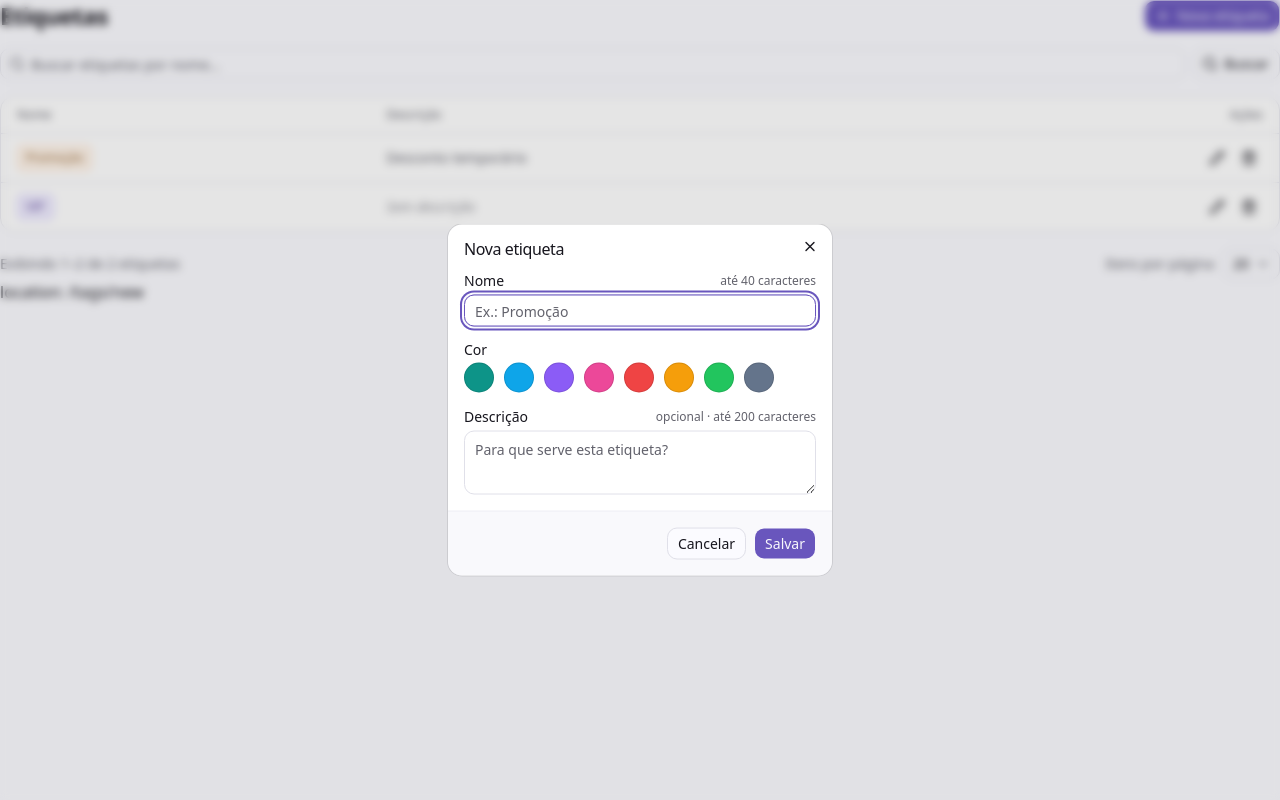
Test case: TagFormPage › create mode (/tags/new) › hands the way out back once a save fails, so the person is never stuck
Expected: the heading "Nova etiqueta" is shown, [464,238,564,260]
Type "Sazonal" into the field labelled "Nome" at (640, 310), box [464,294,816,326]
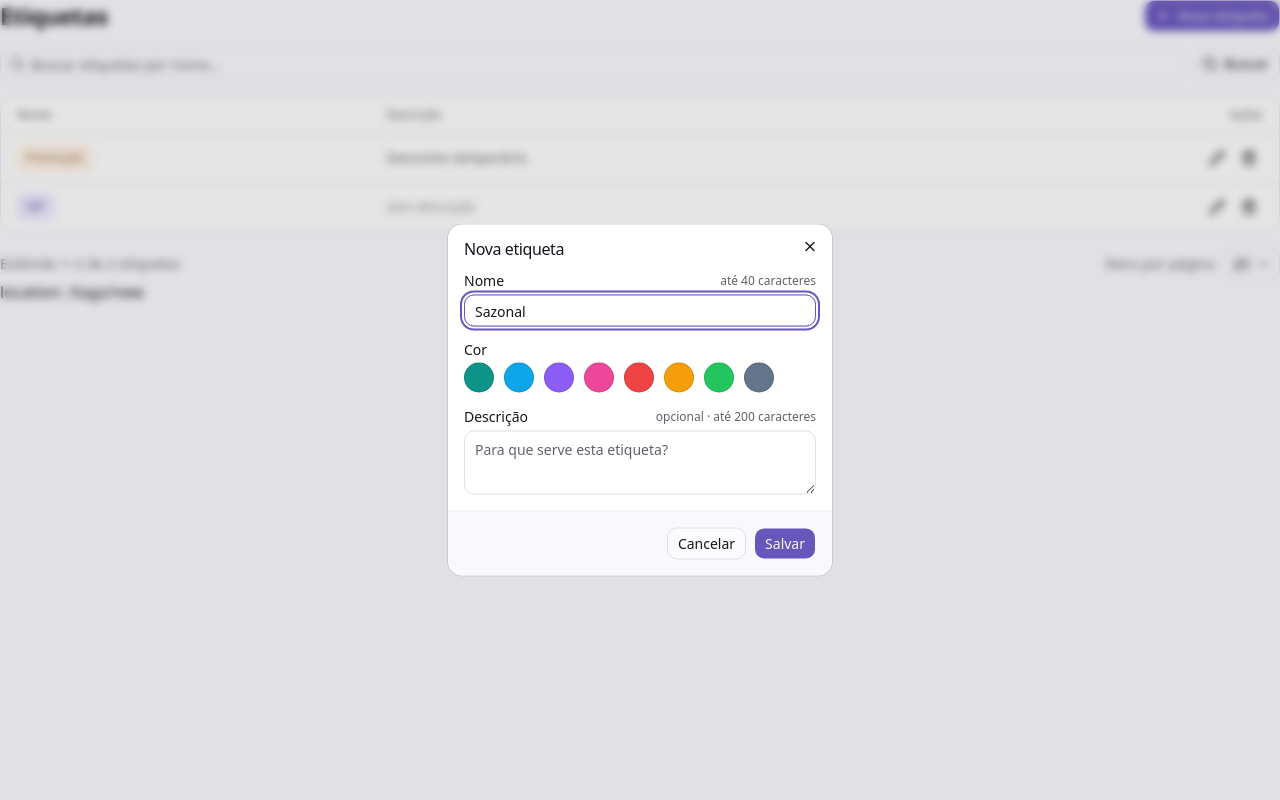
Click the radio button named "Azul" at (519, 378), box [504,362,534,392]
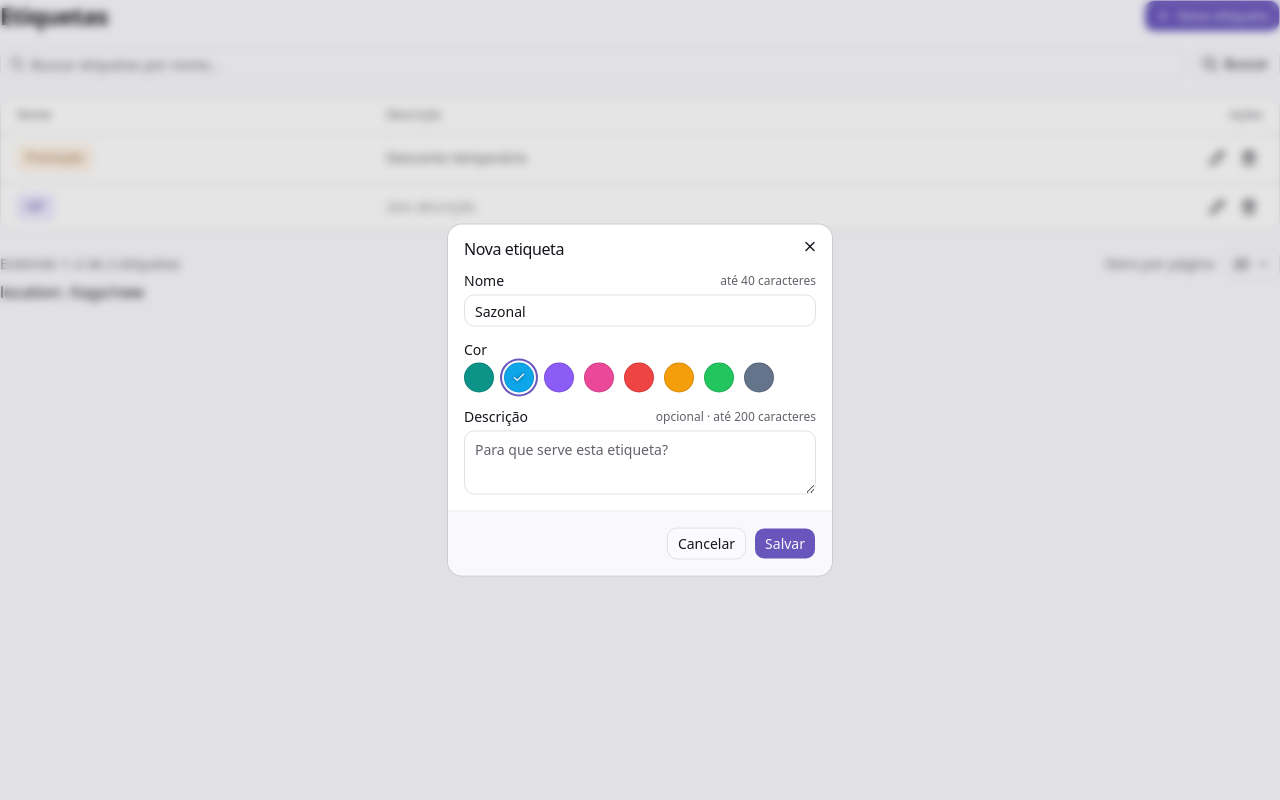
Click the button "Salvar" at (785, 544), box [754,528,816,560]
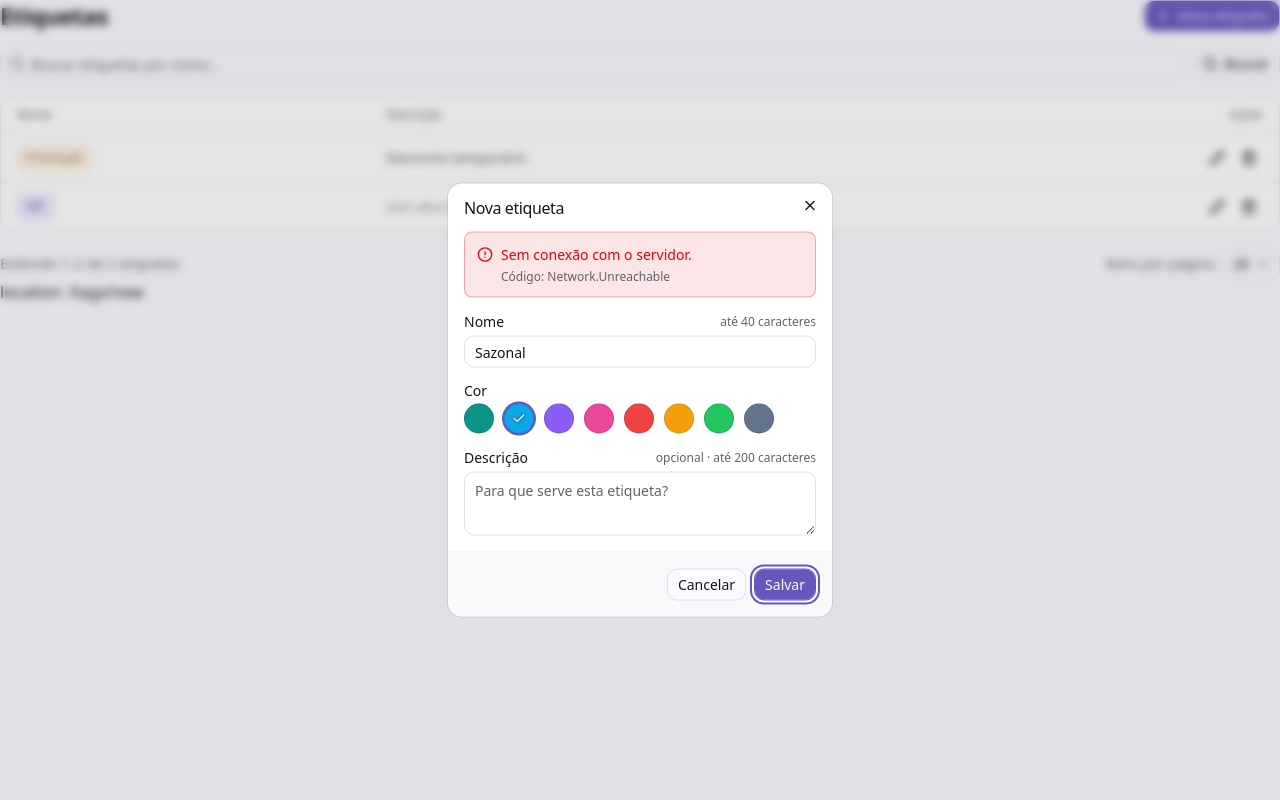
Expected: the message "Sem conexão com o servidor. Código: Network.Unreachable" is shown, [464,232,816,298]
Click the button "Cancelar" at (706, 584), box [667,568,746,600]
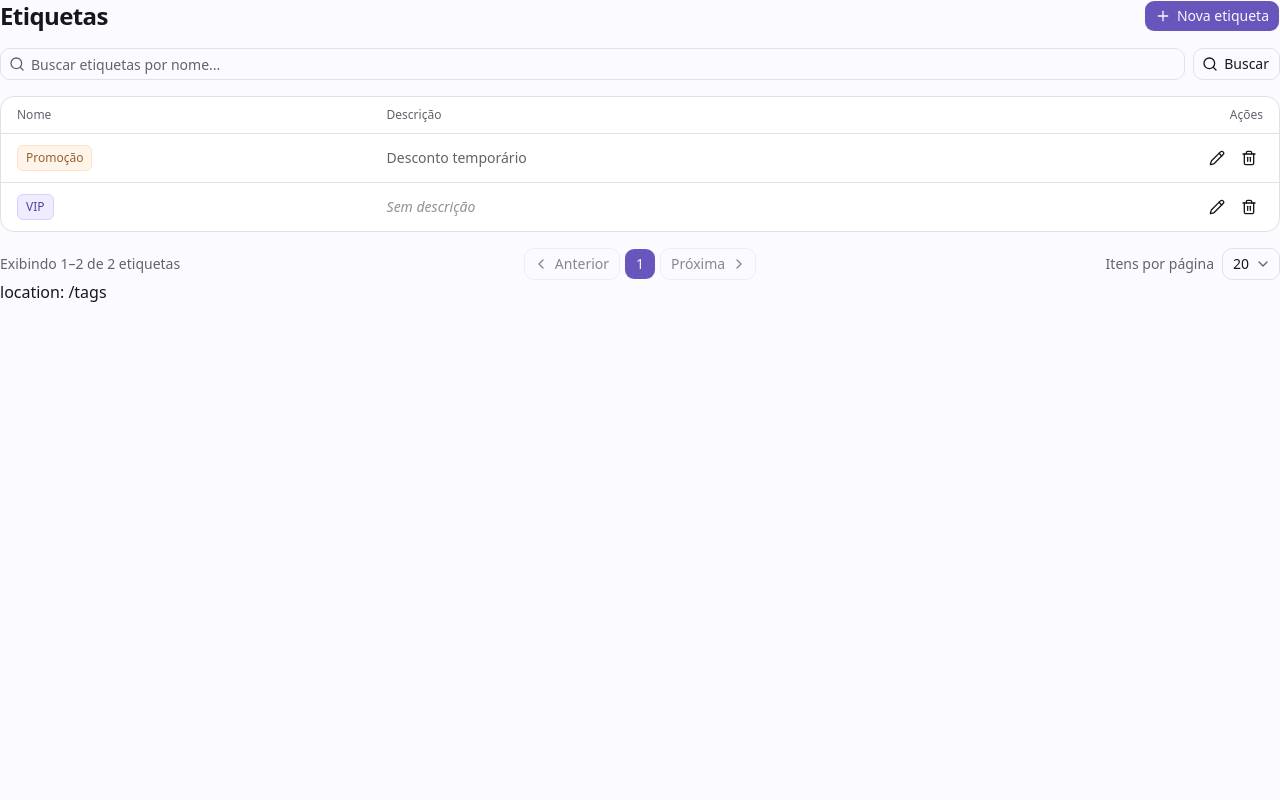
Expected: the text with test id "location" reads "location: /tags", [0,281,107,303]
